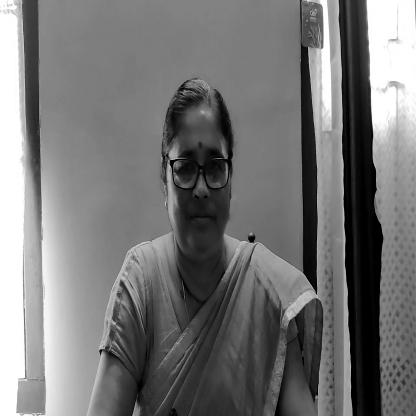Normal: (159, 73, 238, 259)
